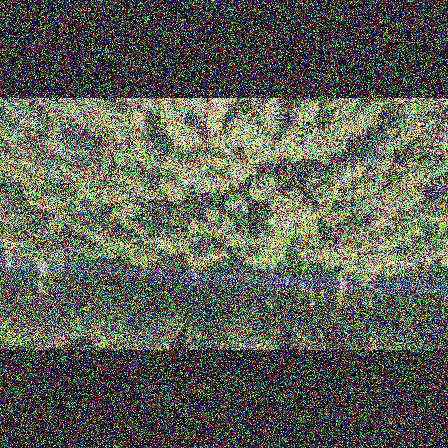Sick: (241, 127, 276, 149), (41, 159, 68, 185)
